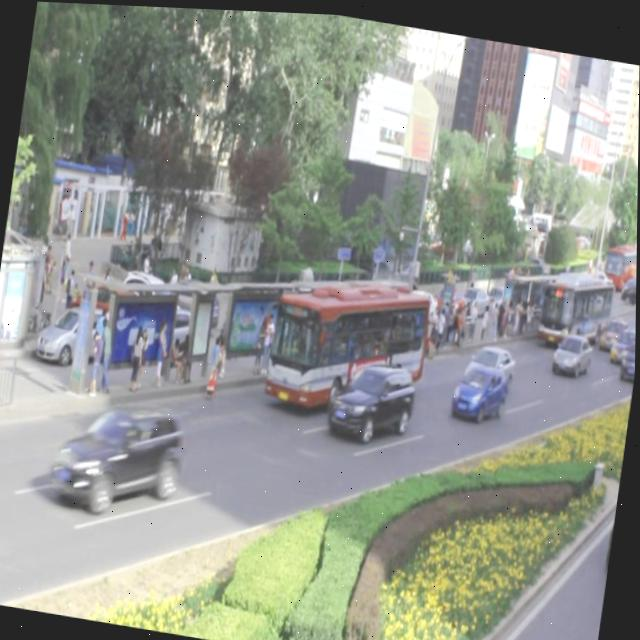car: (51, 392, 189, 519), (327, 352, 417, 444), (449, 356, 508, 420), (462, 336, 515, 392), (550, 325, 593, 372), (607, 318, 637, 358)
truck: (618, 325, 636, 374)
van: (264, 262, 433, 420), (536, 272, 613, 351)
